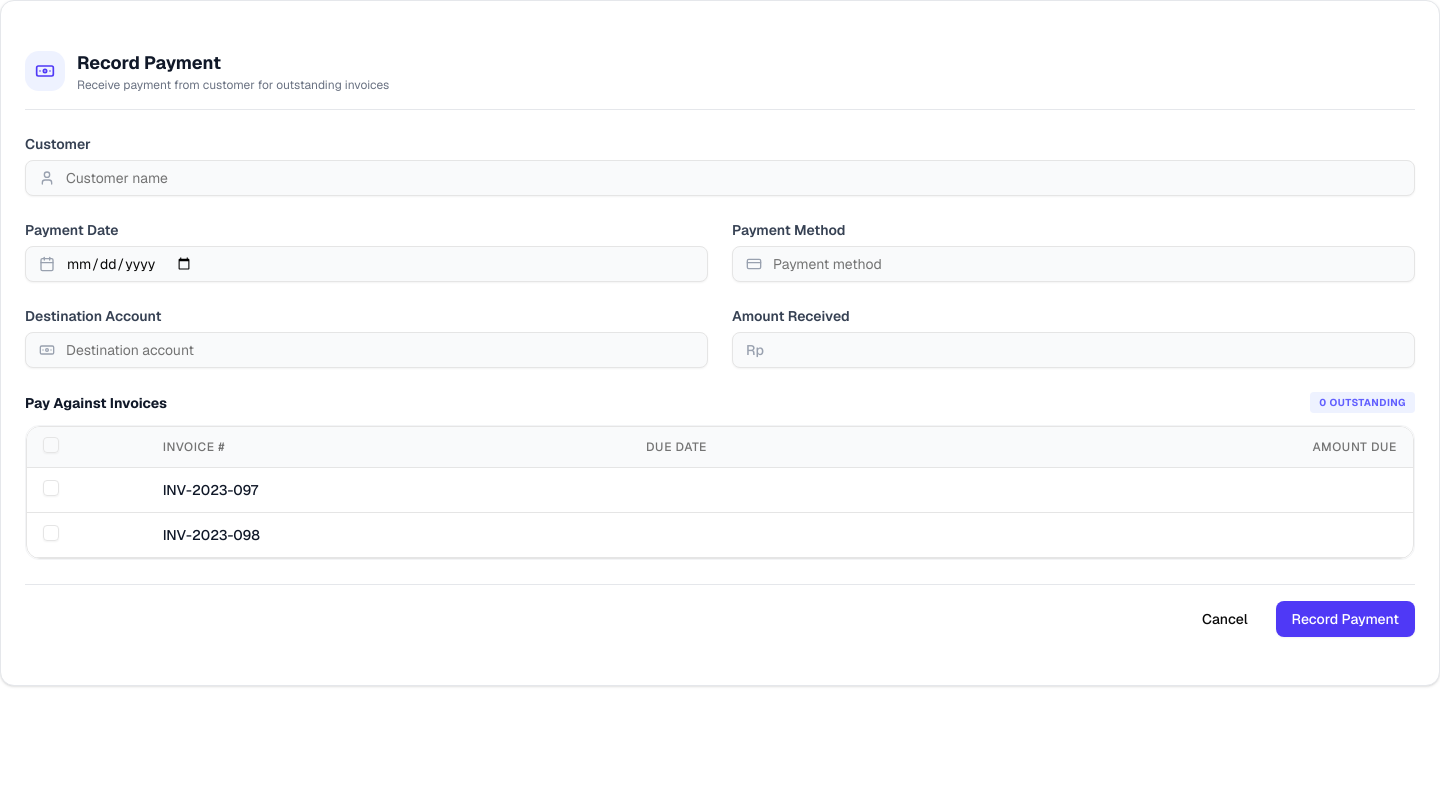
it: invoicing-ar integration errors › shows 422 error message on record payment page
The image size is (1440, 810).
Click the button "Record Payment" at (1345, 618), box [1276, 600, 1415, 636]
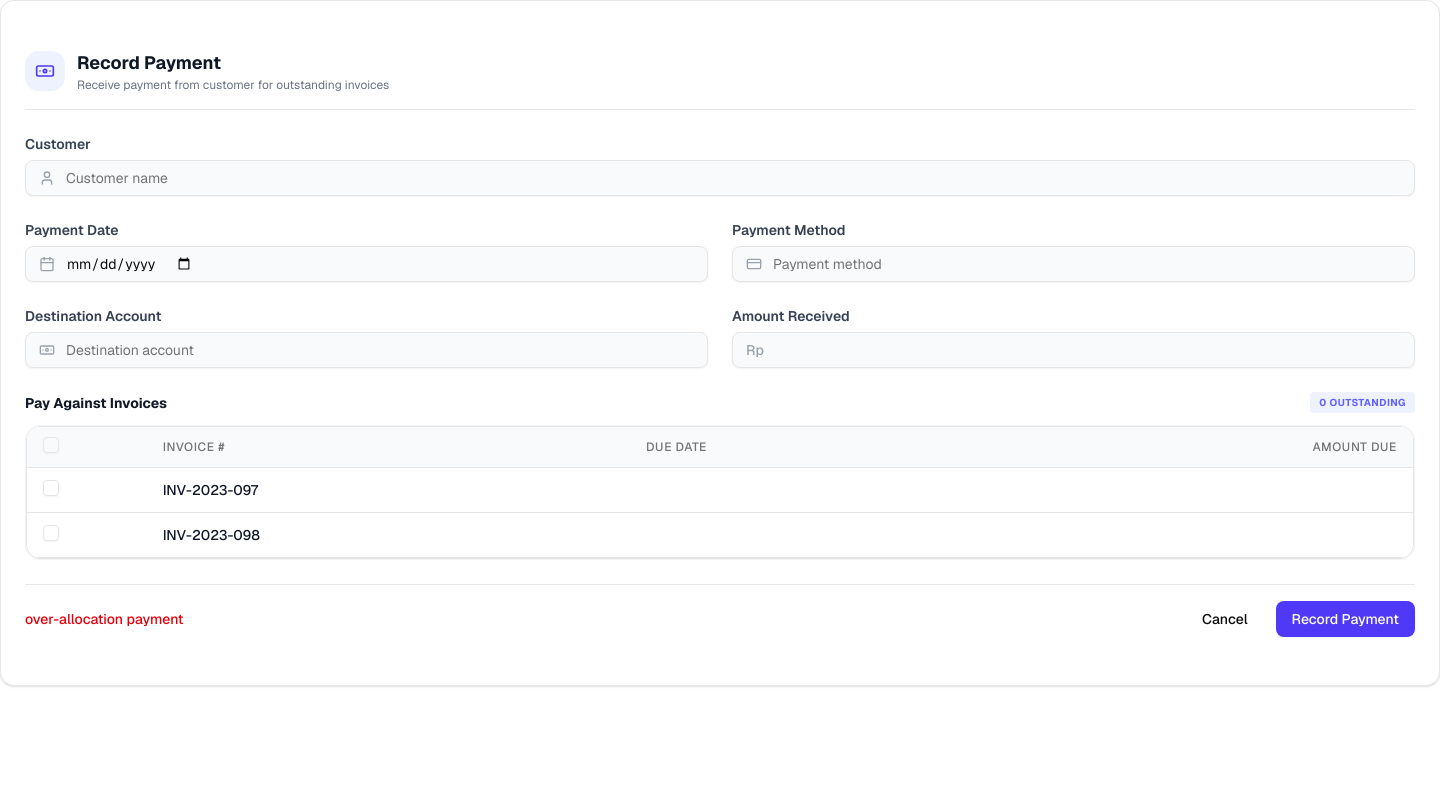
Expected: the text "over-allocation payment" is shown, [25, 608, 184, 628]
